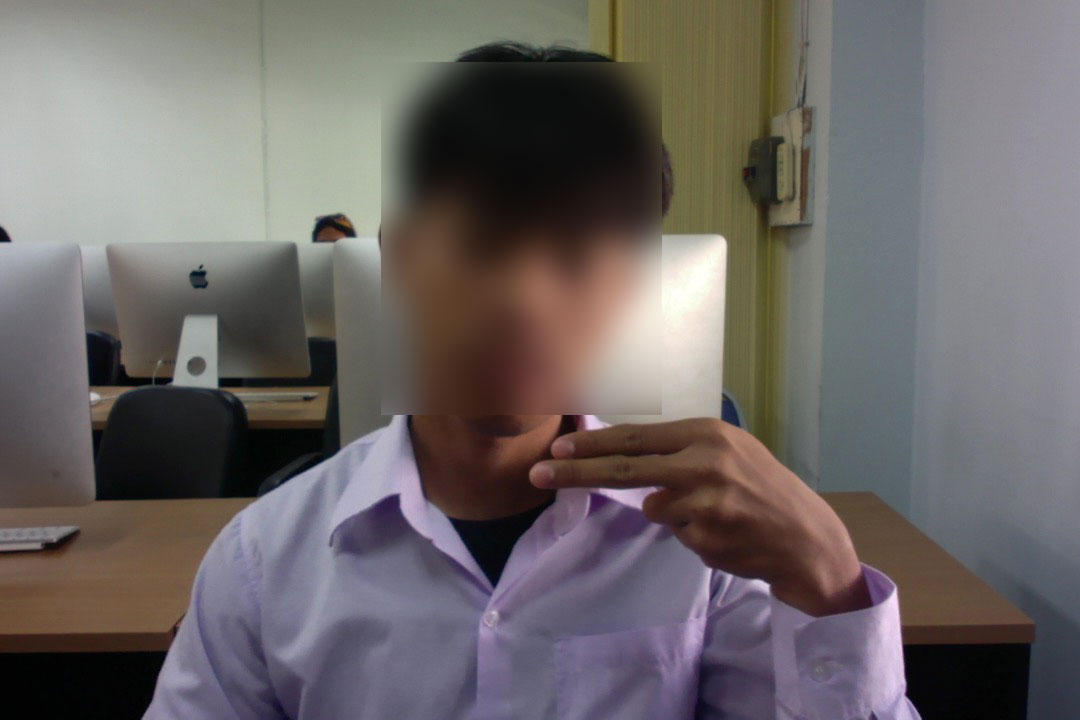hor: (518, 408, 867, 584)
